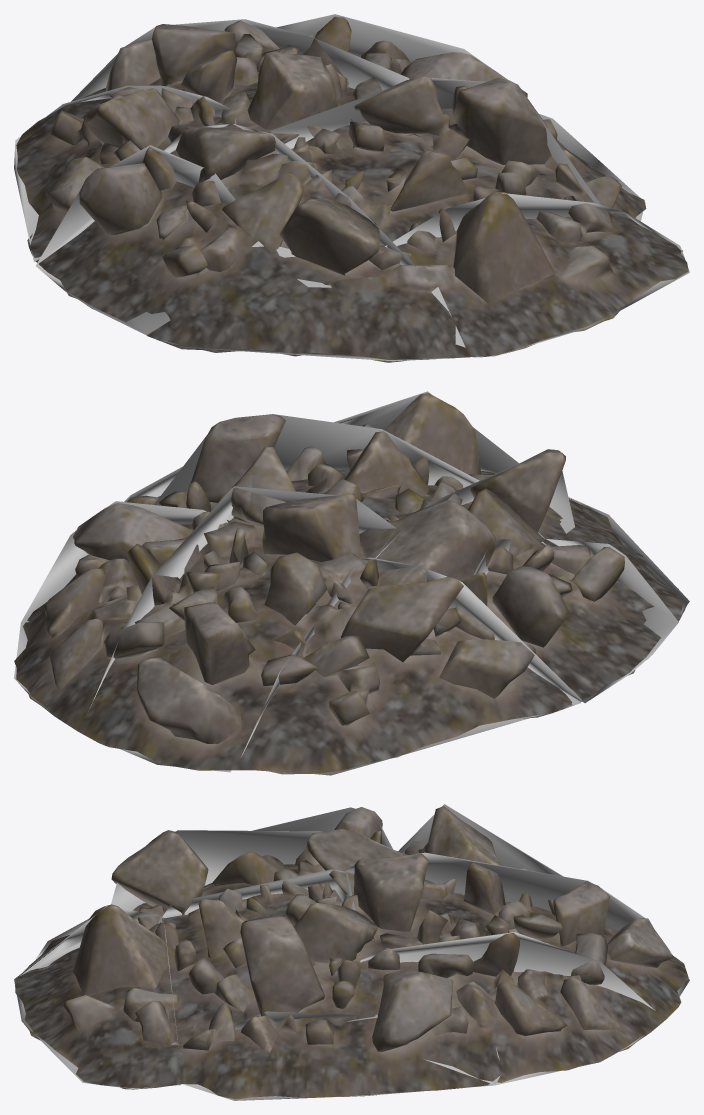
Rendered from SM_DebrisPile_01a.gltf.
3 views of the same model, one above another, from view 1: azimuth 30°, elevation 25°; view 2: azimuth 150°, elevation 25°; view 3: azimuth 270°, elevation 25° (orthographic). The views are drawn at different scales.
Visible parts, largest first — view 1: SM_DebrisPile_01a_LOD0, SM_DebrisPile_01a_ConvexHulls; view 2: SM_DebrisPile_01a_LOD0, SM_DebrisPile_01a_ConvexHulls; view 3: SM_DebrisPile_01a_LOD0, SM_DebrisPile_01a_ConvexHulls.
Boxes of the visible parts, x1,y1,x2,y2 form: SM_DebrisPile_01a_LOD0: (16, 16, 688, 362); SM_DebrisPile_01a_ConvexHulls: (14, 14, 689, 361); SM_DebrisPile_01a_LOD0: (14, 393, 686, 774); SM_DebrisPile_01a_ConvexHulls: (14, 391, 689, 775); SM_DebrisPile_01a_LOD0: (15, 806, 688, 1099); SM_DebrisPile_01a_ConvexHulls: (14, 804, 689, 1100).
Size of what is drawn, in the model's own units: 7.98 by 2.03 by 9.77.
2 materials, 1 textured.
